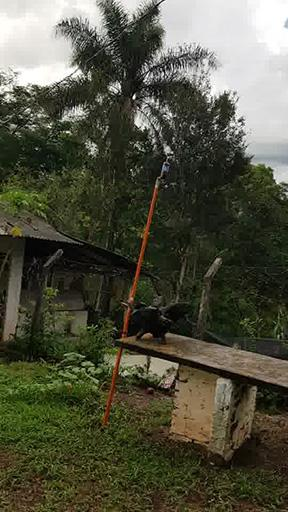Vara_Manobra: (101, 180, 160, 426)
